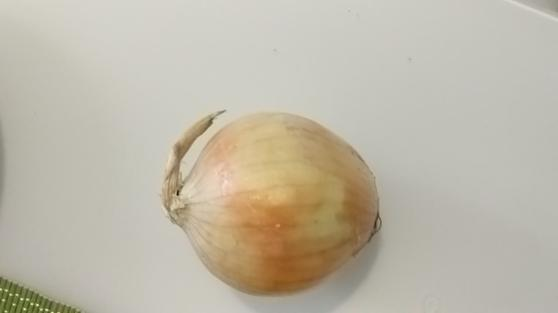onion: (162, 107, 380, 297)
